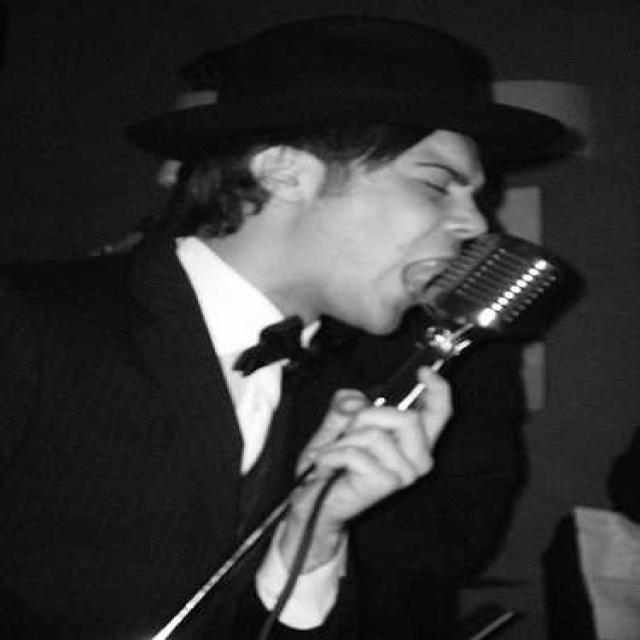microphone: (363, 237, 573, 415)
